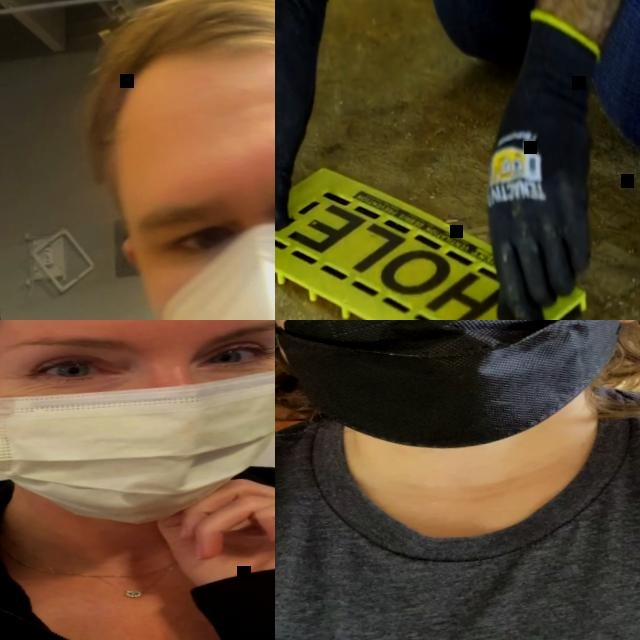Mask: (0, 323, 275, 530), (275, 320, 640, 460)
NO-Hardhat: (79, 0, 275, 183)
NO-Safety Vest: (275, 387, 640, 640), (0, 492, 275, 640)
Person: (275, 0, 640, 320), (275, 320, 640, 640), (0, 0, 275, 320), (0, 320, 275, 640)
